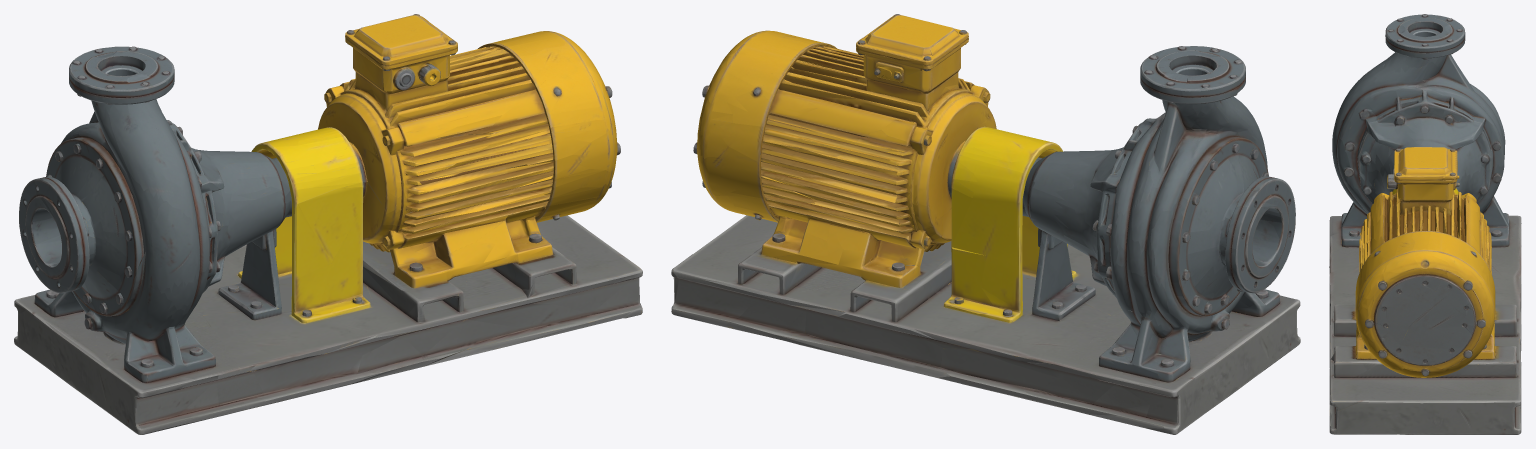
The model's file is pompa_gialla.glb.
The picture shows the model from 3 angles, left to right: view 1: azimuth 30°, elevation 25°; view 2: azimuth 150°, elevation 25°; view 3: azimuth 270°, elevation 25°; orthographic projection. The views are drawn at different scales.
Visible parts, largest first — view 1: Mesh_0; view 2: Mesh_0; view 3: Mesh_0.
Boxes of the visible parts, x1,y1,x2,y2 form: Mesh_0: (14, 14, 642, 434); Mesh_0: (671, 14, 1300, 434); Mesh_0: (1329, 14, 1521, 434).
Bounding box in the file's own units: 1.9 × 1.07 × 0.7831.
1 material, 1 textured.
